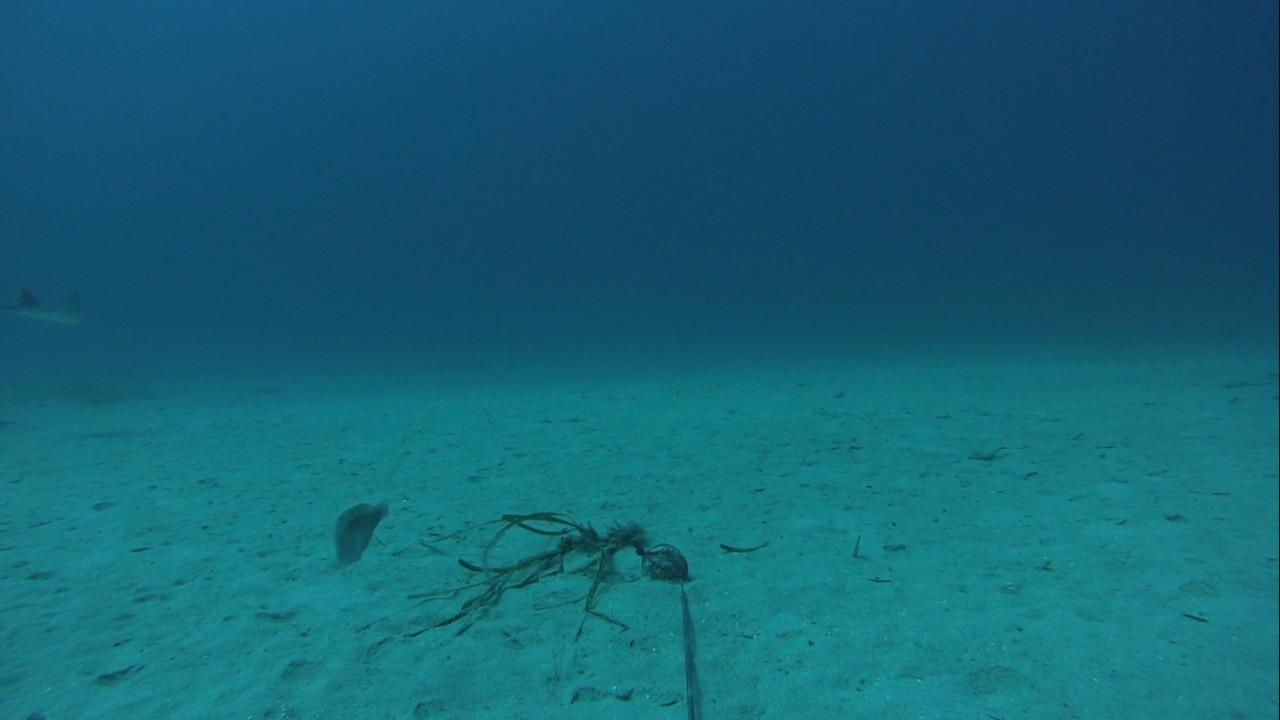myliobatis: (325, 495, 394, 575), (6, 277, 99, 334)
raor: (330, 492, 394, 572)
